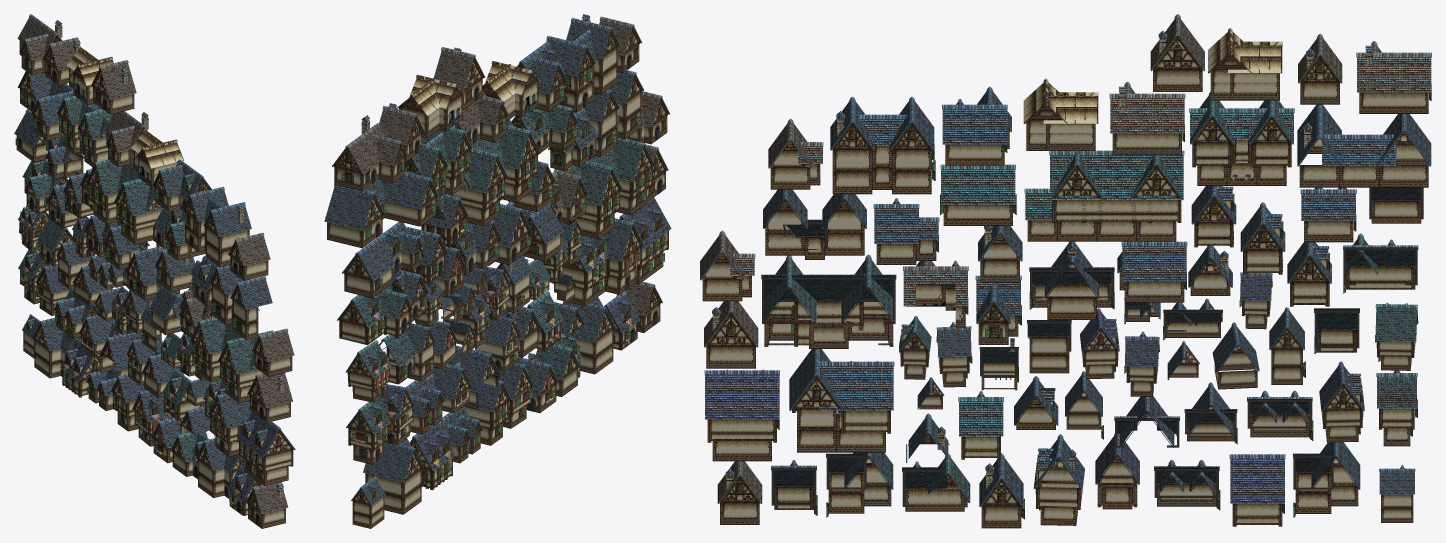
File: MbdMD_Co_T_Plain_L_A_Build_02.FBX
The picture shows the model from 3 angles, left to right: view 1: azimuth 30°, elevation 25°; view 2: azimuth 150°, elevation 25°; view 3: azimuth 270°, elevation 25°; orthographic projection. The views are drawn at different scales.
Parts seen in each view (by area): view 1: MbdMD_Co_T_Plain_M_B_AgitatingPoint, MbdMD_Co_T_Plain_M_A_Orlik, MbdMD_Co_T_Plain_S_Inn (×2), MbdMD_Co_T_Plain_M_B_House_D, MbdMD_Co_T_Plain_L_A_Build_DD (×2), MbdMD_Co_T_Plain_S_Pub (×2), MbdMD_Co_T_Plain_S_GeneralShop (×2), MbdMD_Co_T_Plain_S_Prison (×2), MbdMD_Co_T_Plain_M_A_B, MbdMD_Co_T_Plain_M_B_House_C, MbdMD_Co_T_Plain_S_House_A (×2), MbdMD_Co_T_Plain_M_B_Leblo (+46 smaller); view 2: MbdMD_Co_T_Plain_M_B_House_A, MbdMD_Co_T_Plain_M_B_AgitatingPoint, MbdMD_Co_T_Plain_S_Pub (×2), MbdMD_Co_T_Plain_L_A_Build_DD (×2), MbdMD_Co_T_Plain_M_A_Orlik, MbdMD_Co_T_Plain_S_Prison (×2), MbdMD_Co_T_Plain_M_B_House_D, MbdMD_Co_T_Plain_L_A_Inn, MbdMD_Co_T_Plain_M_A_B, MbdMD_Co_T_Plain_L_A_Pub, MbdMD_Co_T_Plain_M_B_Leblo, MbdMD_Co_T_Plain_S_House_A (×2) (+49 smaller); view 3: MbdMD_Co_T_Plain_M_B_AgitatingPoint, MbdMD_Co_T_Plain_M_A_Orlik, MbdMD_Co_T_Plain_S_Pub (×2), MbdMD_Co_T_Plain_L_A_Inn, MbdMD_Co_T_Plain_S_Prison (×2), MbdMD_Co_T_Plain_M_B_House_D, MbdMD_Co_T_Plain_M_B_House_A, MbdMD_Co_T_Plain_M_B_Leblo, MbdMD_Co_T_Plain_L_A_Build_DD (×2), MbdMD_Co_T_Plain_M_B_House_C, MbdMD_Co_T_Plain_S_Inn (×2), MbdMD_Co_T_Plain_M_A_B (+47 smaller).
Part boxes in pixels (x1,y1,x2,y2): MbdMD_Co_T_Plain_M_B_AgitatingPoint: (86,159,169,247); MbdMD_Co_T_Plain_M_A_Orlik: (190,316,273,402); MbdMD_Co_T_Plain_S_Inn (×2): (91,60,293,422); MbdMD_Co_T_Plain_M_B_House_D: (182,186,251,267); MbdMD_Co_T_Plain_L_A_Build_DD (×2): (32,317,243,498); MbdMD_Co_T_Plain_S_Pub (×2): (17,14,148,167); MbdMD_Co_T_Plain_S_GeneralShop (×2): (228,232,294,376); MbdMD_Co_T_Plain_S_Prison (×2): (66,46,183,187); MbdMD_Co_T_Plain_M_A_B: (209,265,272,339); MbdMD_Co_T_Plain_M_B_House_C: (237,412,295,485); MbdMD_Co_T_Plain_S_House_A (×2): (42,37,288,528); MbdMD_Co_T_Plain_M_B_Leblo: (56,93,112,167); MbdMD_Co_T_Plain_M_B_House_A: (324,172,438,248); MbdMD_Co_T_Plain_M_B_AgitatingPoint: (445,119,540,226); MbdMD_Co_T_Plain_S_Pub (×2): (332,89,508,191); MbdMD_Co_T_Plain_L_A_Build_DD (×2): (363,297,615,514); MbdMD_Co_T_Plain_M_A_Orlik: (554,137,655,238); MbdMD_Co_T_Plain_S_Prison (×2): (396,61,540,138); MbdMD_Co_T_Plain_M_B_House_D: (546,14,620,112); MbdMD_Co_T_Plain_L_A_Inn: (551,218,643,306); MbdMD_Co_T_Plain_M_A_B: (573,70,643,156); MbdMD_Co_T_Plain_L_A_Pub: (337,286,412,344); MbdMD_Co_T_Plain_M_B_Leblo: (405,125,472,206); MbdMD_Co_T_Plain_S_House_A (×2): (379,103,662,332); MbdMD_Co_T_Plain_M_B_AgitatingPoint: (1024,150,1184,241); MbdMD_Co_T_Plain_M_A_Orlik: (761,254,896,348); MbdMD_Co_T_Plain_S_Pub (×2): (1109,41,1431,154); MbdMD_Co_T_Plain_L_A_Inn: (789,349,894,452); MbdMD_Co_T_Plain_S_Prison (×2): (1023,27,1282,150); MbdMD_Co_T_Plain_M_B_House_D: (830,97,935,194); MbdMD_Co_T_Plain_M_B_House_A: (1297,104,1431,187); MbdMD_Co_T_Plain_M_B_Leblo: (1189,92,1294,185); MbdMD_Co_T_Plain_L_A_Build_DD (×2): (826,442,1360,517); MbdMD_Co_T_Plain_M_B_House_C: (704,369,779,461); MbdMD_Co_T_Plain_S_Inn (×2): (704,14,1204,368); MbdMD_Co_T_Plain_M_A_B: (763,189,866,259).
Size of the model in its own units: 869 by 5505 by 7382.
